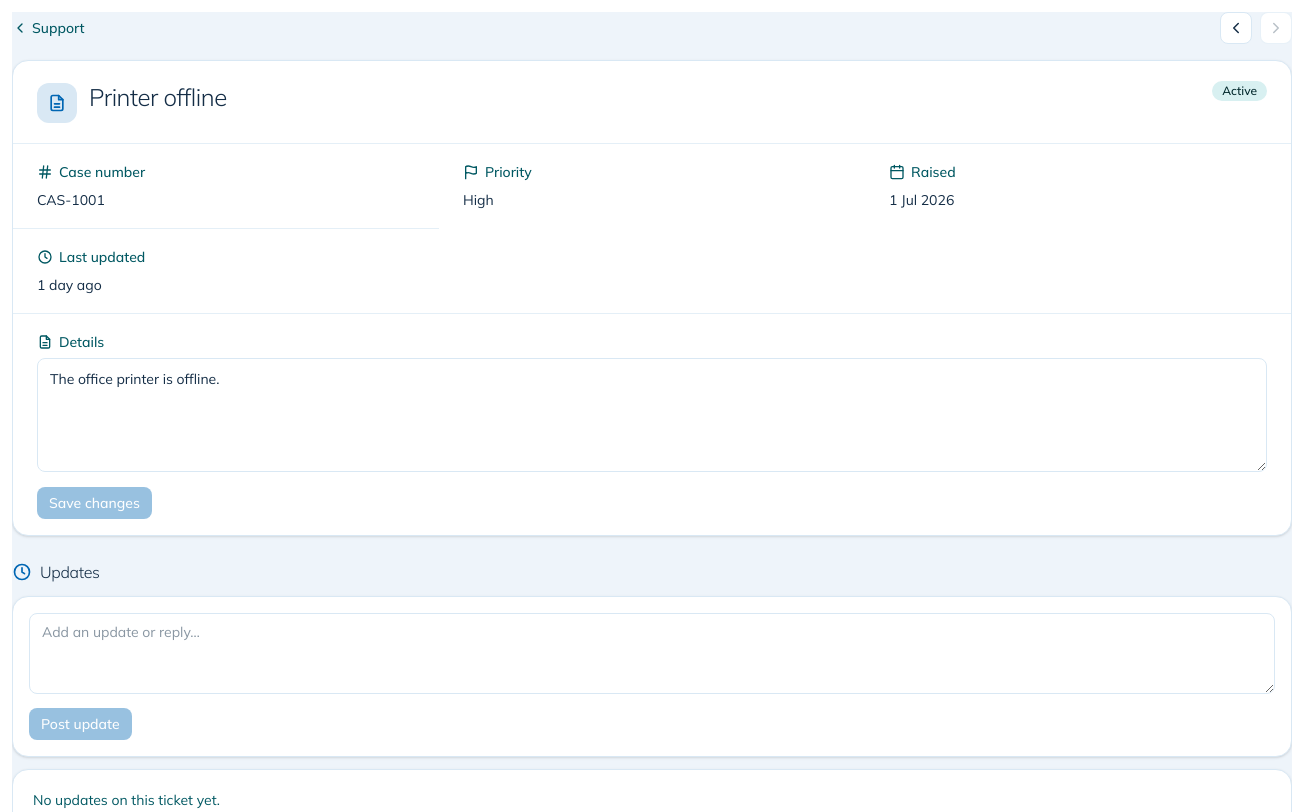
it: CaseDetailPage › disables next on the last case, and steps to the previous
Expected: the heading "Printer offline" is shown, [89, 81, 227, 113]
Expected: the button named "Next" is disabled, [1260, 12, 1292, 44]
Click the button named "Previous" at (1236, 28), box [1220, 12, 1252, 44]
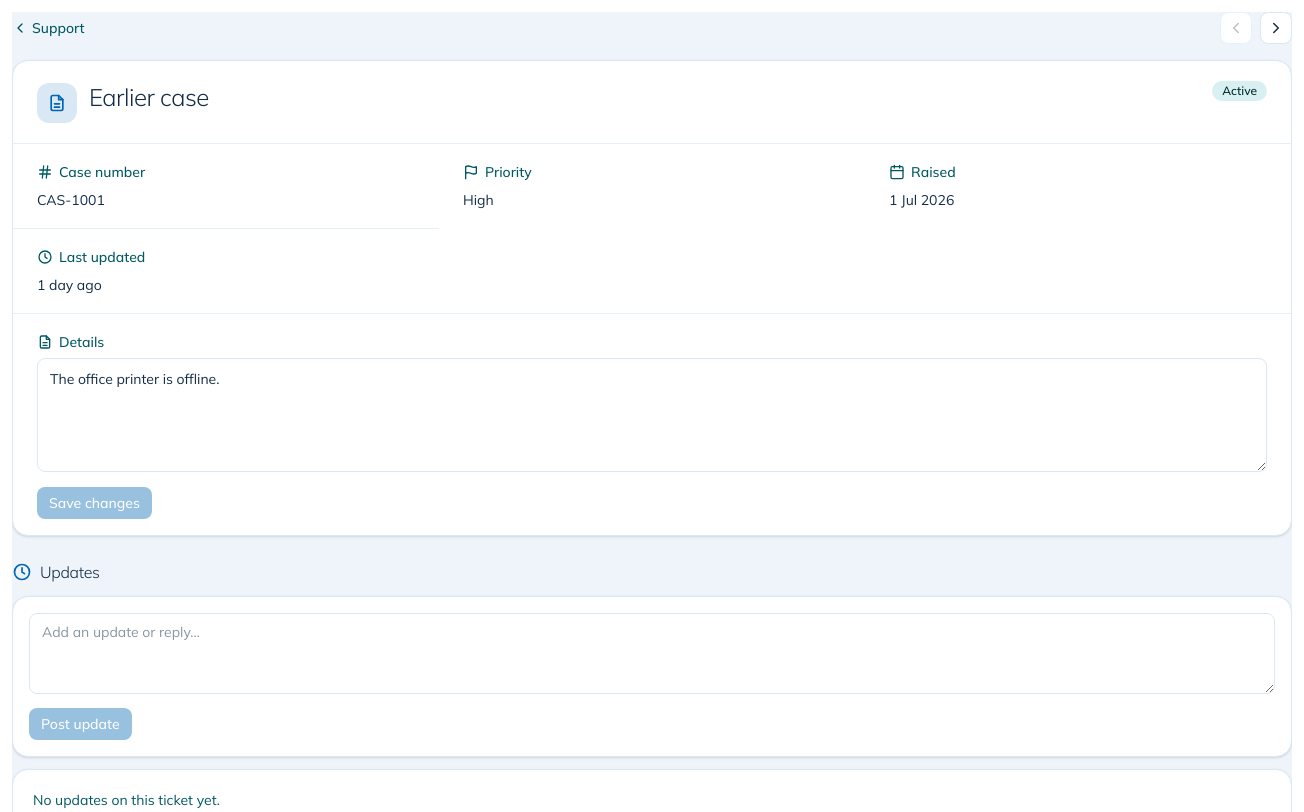
Expected: the heading "Earlier case" is shown, [89, 81, 209, 113]
